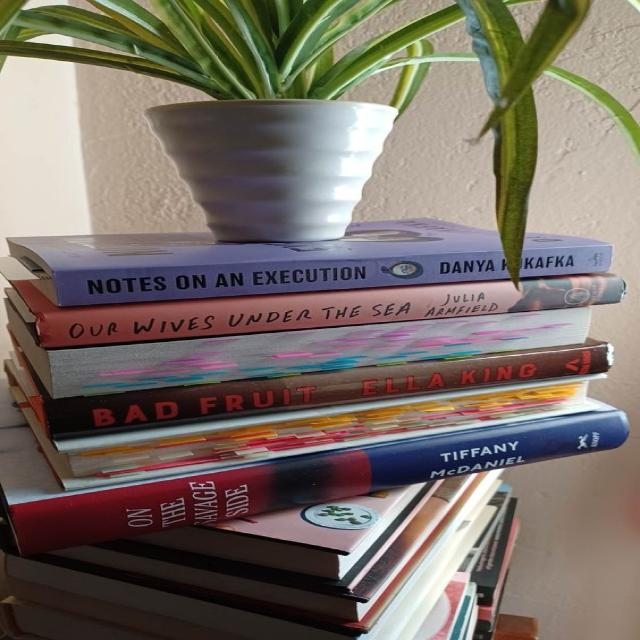book: (13, 410, 623, 556), (49, 345, 609, 442), (37, 273, 624, 347), (53, 245, 613, 305)
plants: (0, 0, 639, 284)
